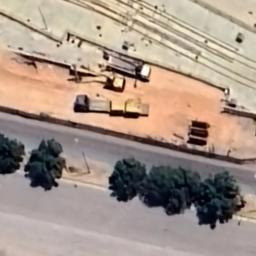others: (73, 94, 149, 118), (102, 51, 151, 80)
